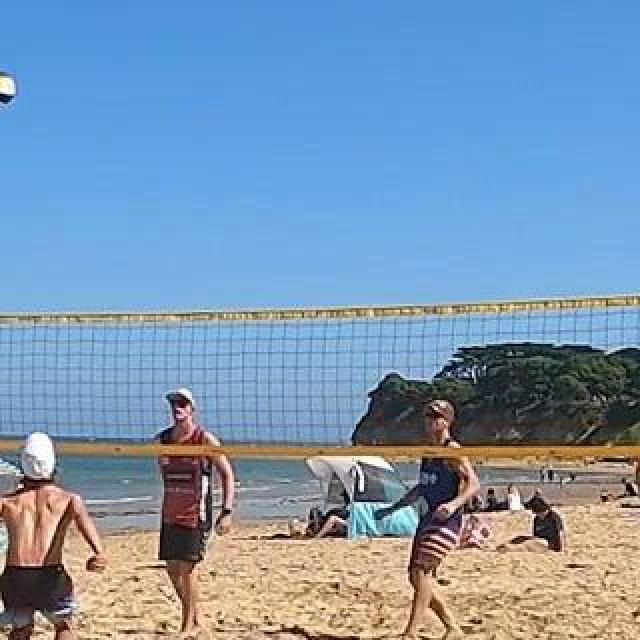volleyball: (0, 76, 14, 106)
